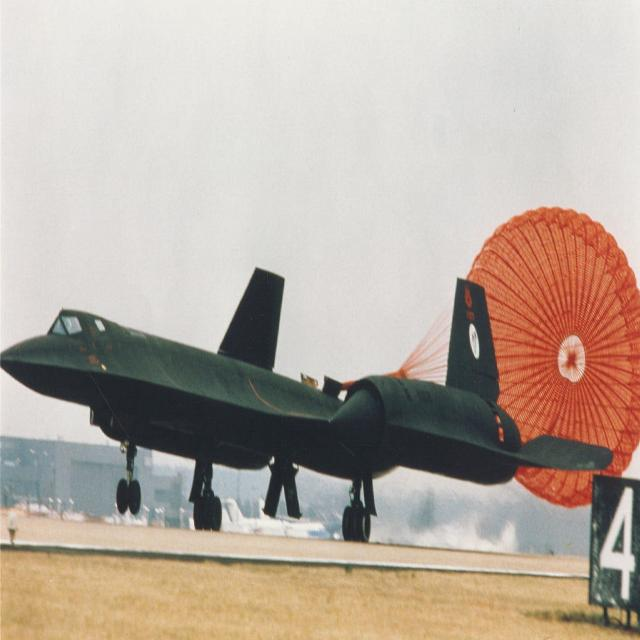MIL_Plane: (1, 265, 612, 543)
